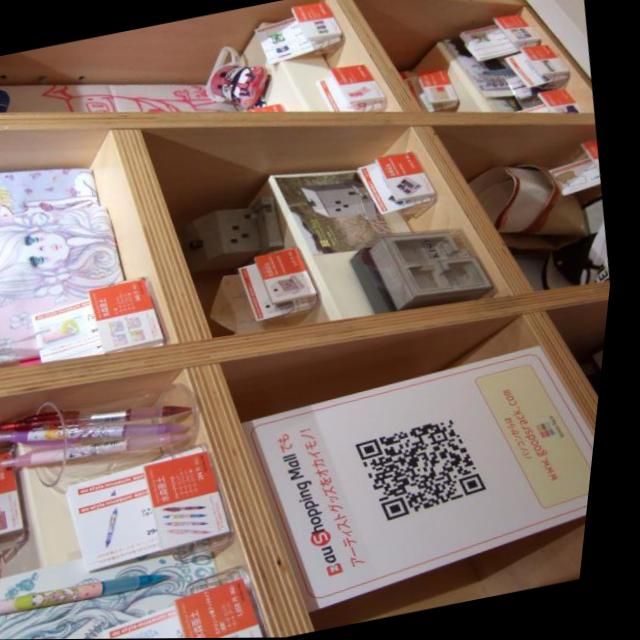qrcode: (358, 413, 506, 526)
